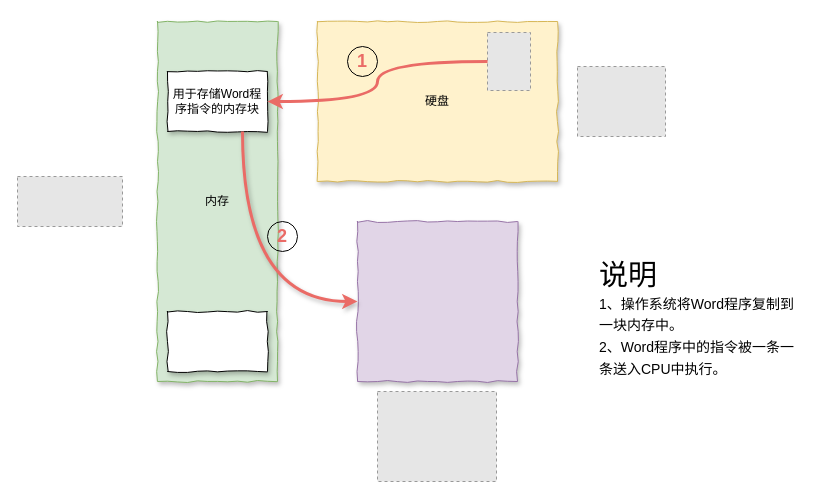
Some shapes in this 815 by 499 pixel diagram are drawn without their labels. Grey dashed boxes stand in for pictures. The shapes that lost their labels are listed below. From the top down, each one's centre as x and y in pixels, then its label:
the point at 438,302: CPU
the point at 218,342: 操作系统也是一堆指令的集合，也是程序
